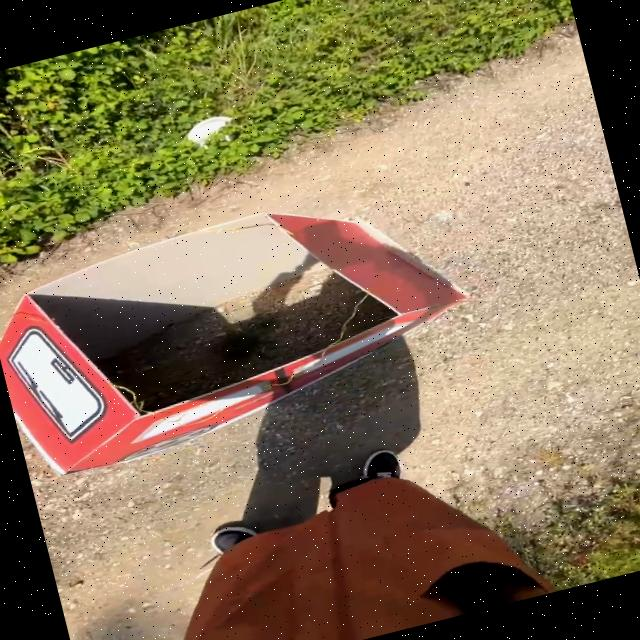red_car: (0, 139, 553, 508)
